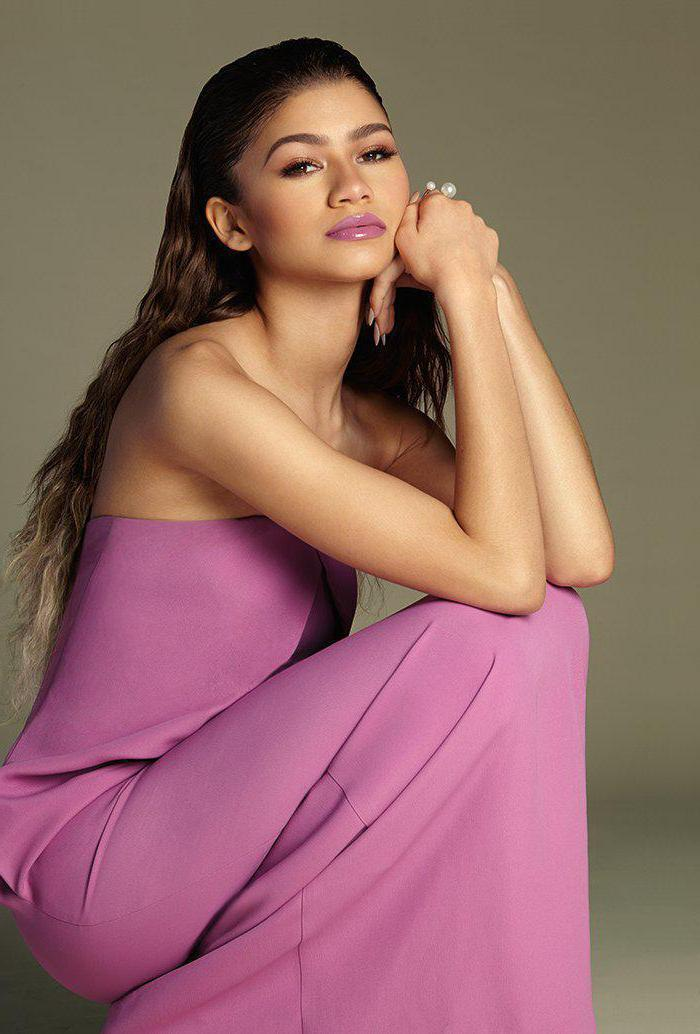Sober: (226, 66, 413, 268)
